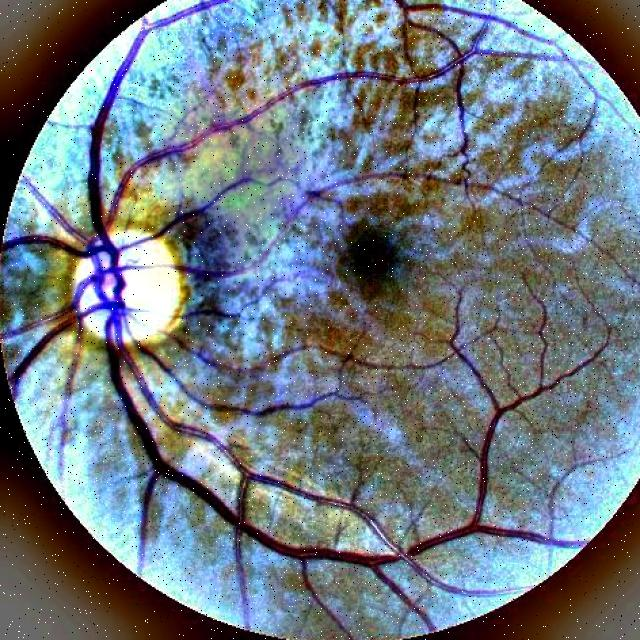Macula: (344, 233, 403, 288)
Nerves: (1, 4, 331, 557), (240, 517, 400, 565), (172, 336, 228, 373), (62, 353, 80, 428), (206, 494, 240, 522), (297, 491, 344, 504), (79, 323, 83, 347), (60, 433, 65, 449), (58, 453, 62, 466)
Optic Disk: (72, 234, 190, 345)
